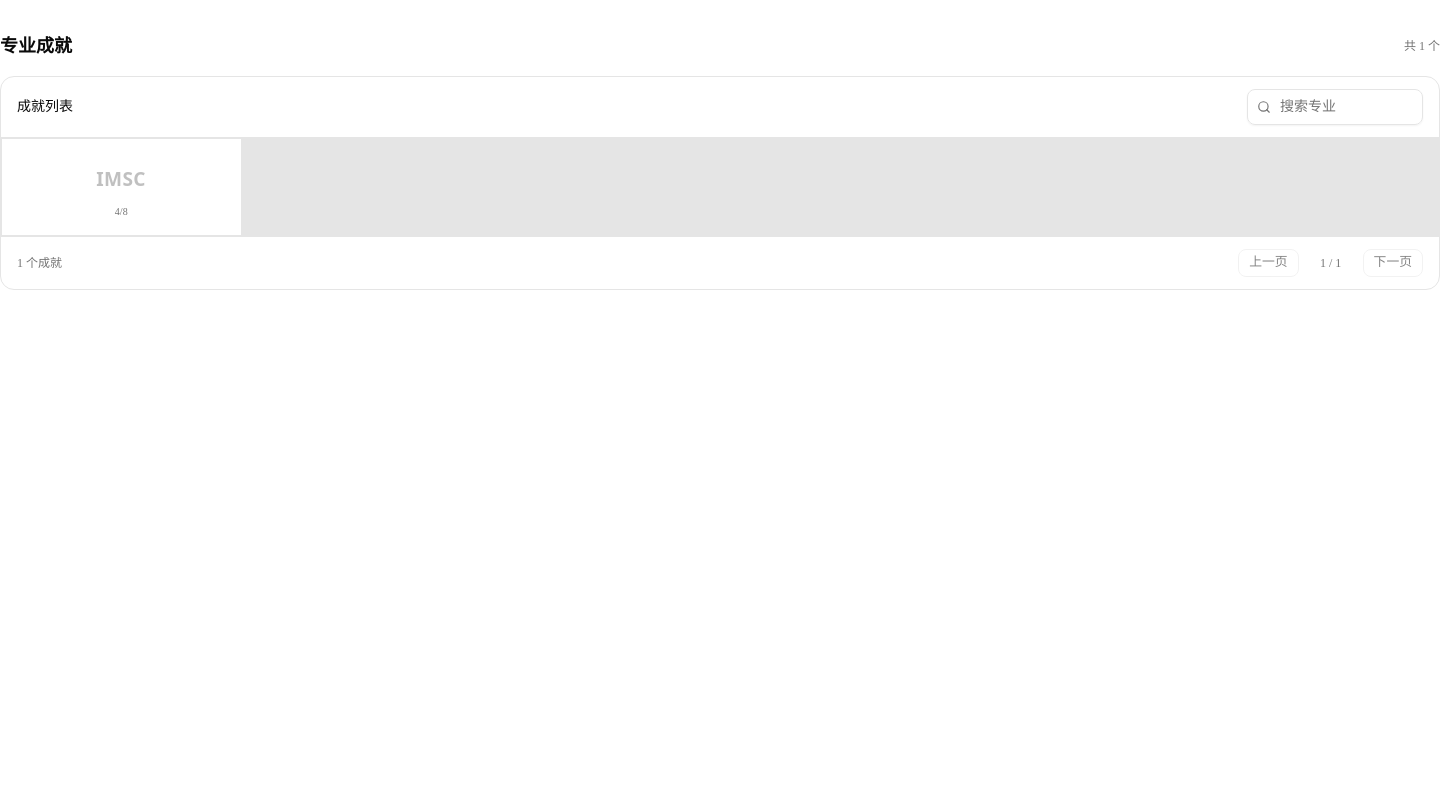
Test case: ProfessionalAchievementInventory › supports a silver-to-gold achievement with no bronze tier
Click the button with aria-label "跨学科数学与科学教育，进度 4/8". click: (121, 187)
box: [2,139,240,235]
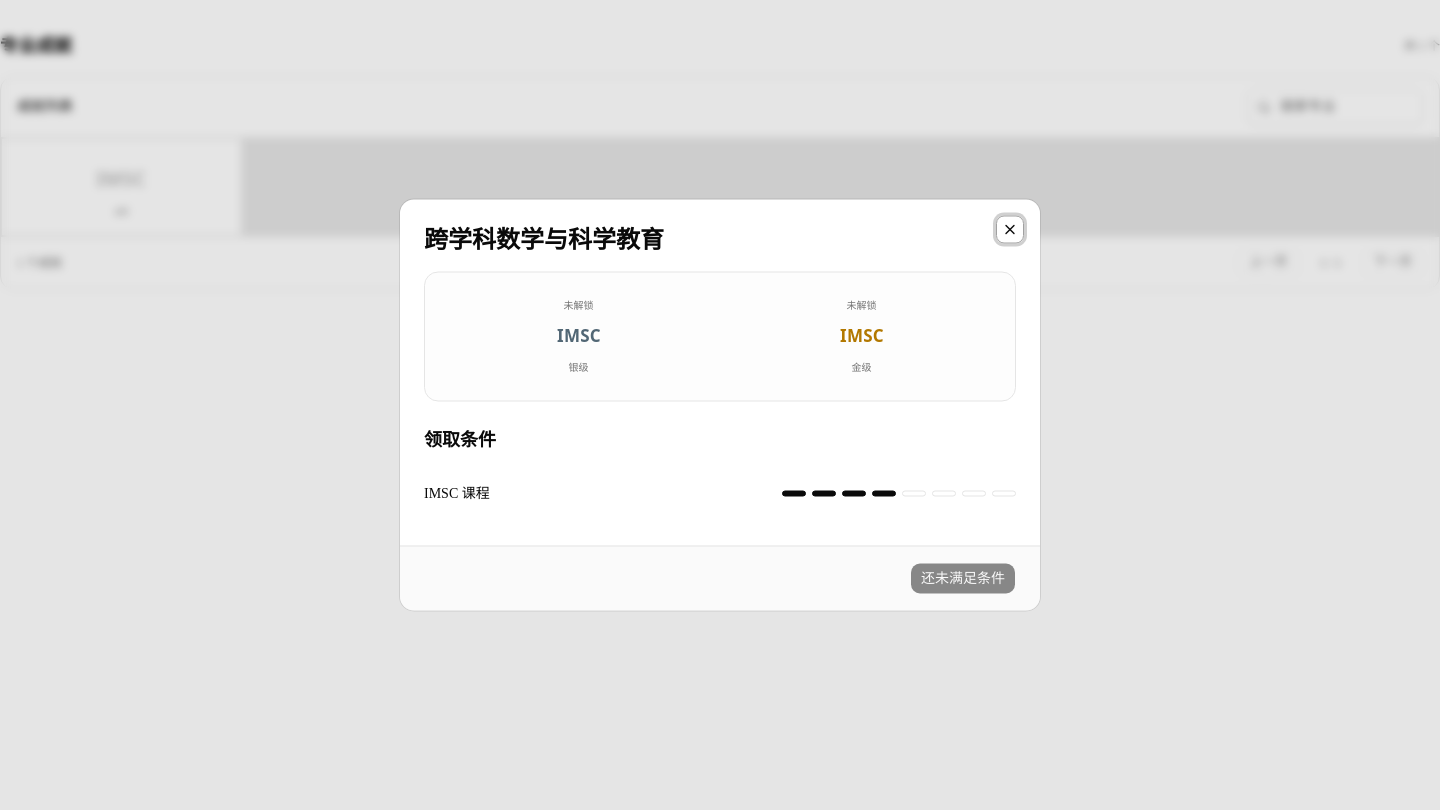
Expected: the number of list items is 2, [546,299,610,372]; [830,299,894,372]
Expected: the list item with aria-label "IMSC 银级，未解锁" is shown, [546,299,610,372]
Expected: the list item with aria-label "IMSC 金级，未解锁" is shown, [830,299,894,372]
